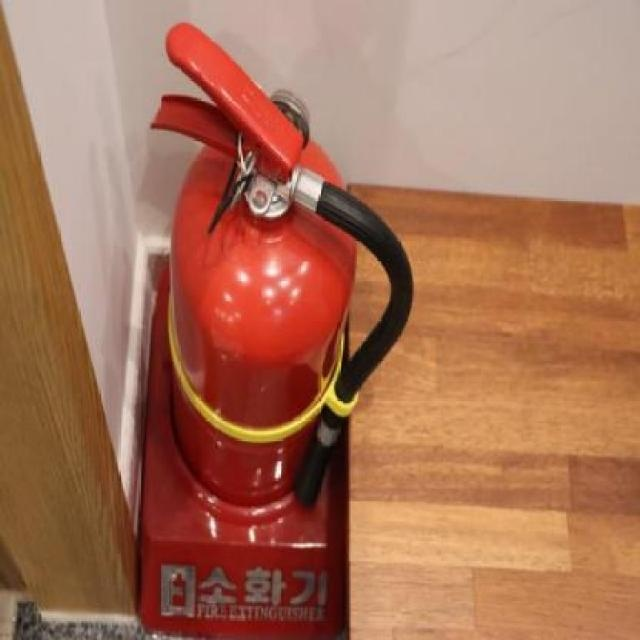fire extinguisher: (151, 22, 414, 509)
